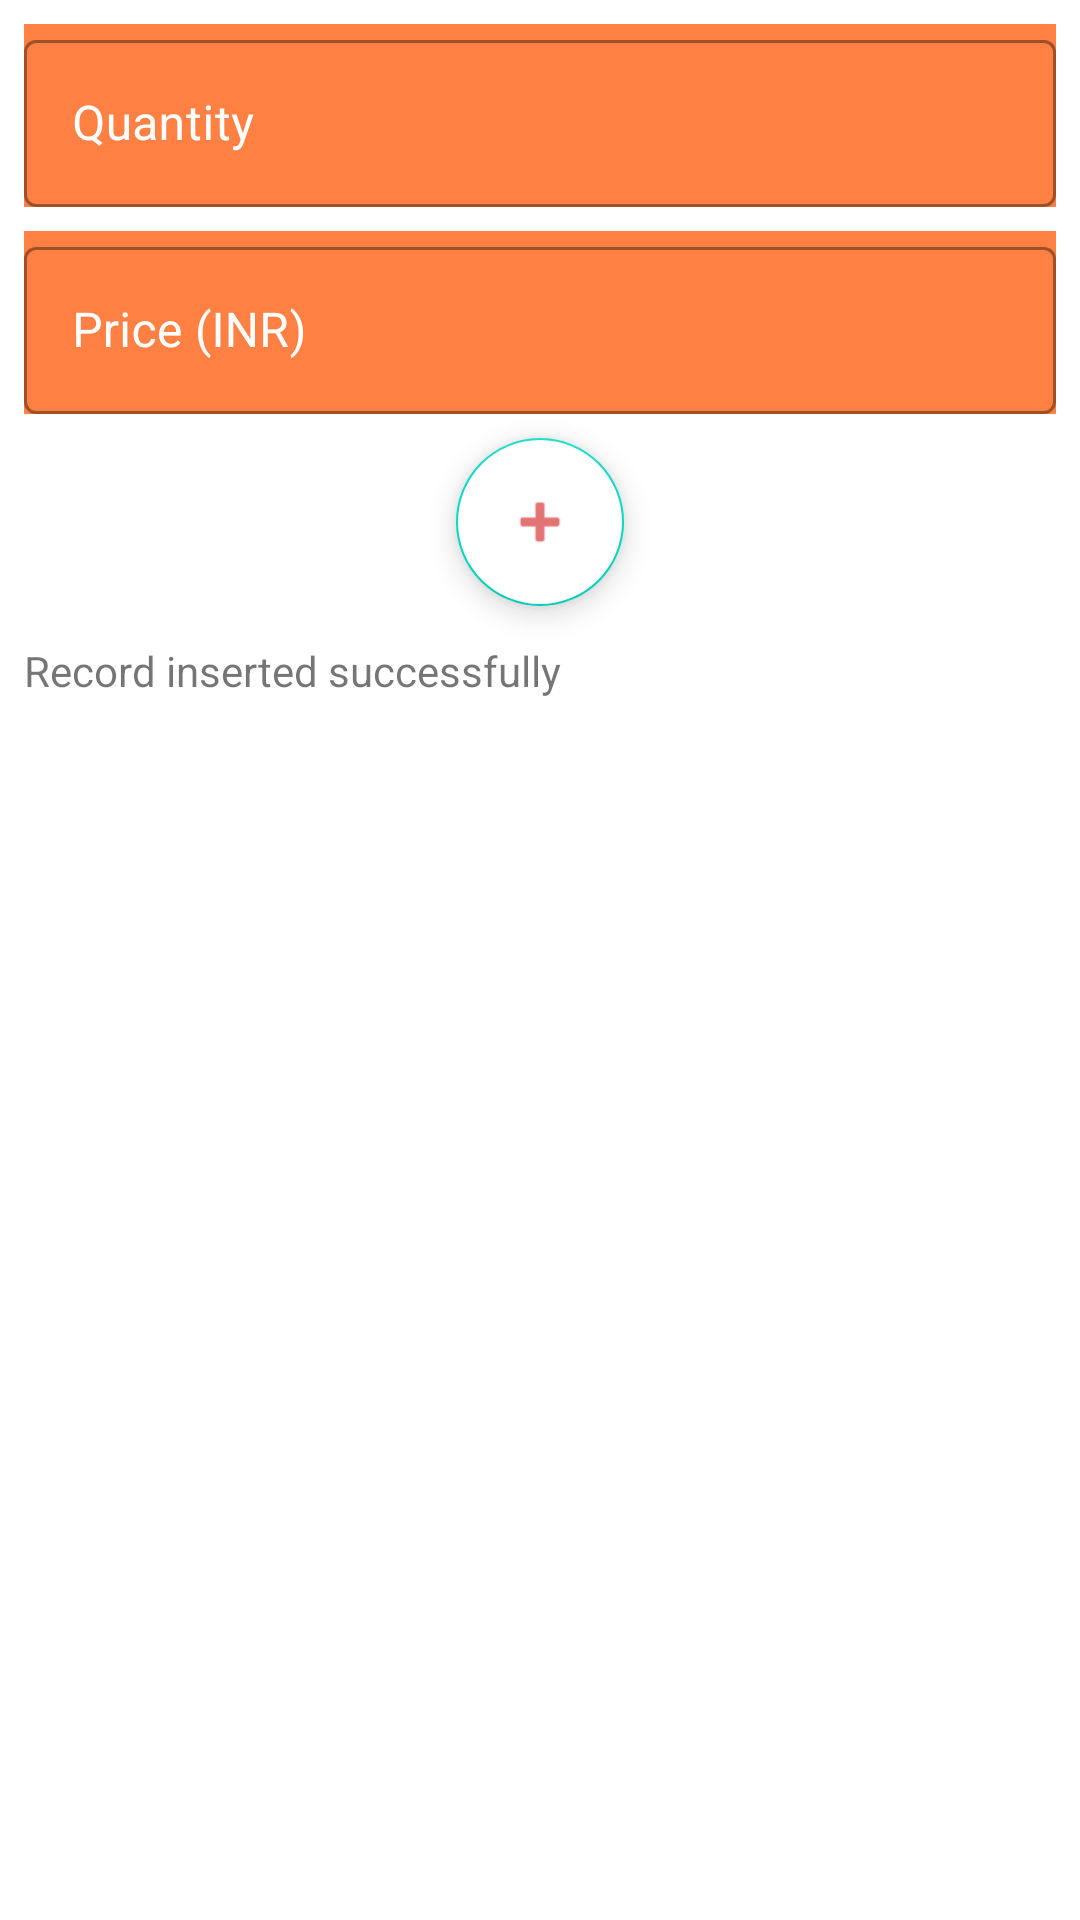

Icon click points for this 1080 × 1920 phone screenshot, format (x,y):
Add Unit: (540,522)
